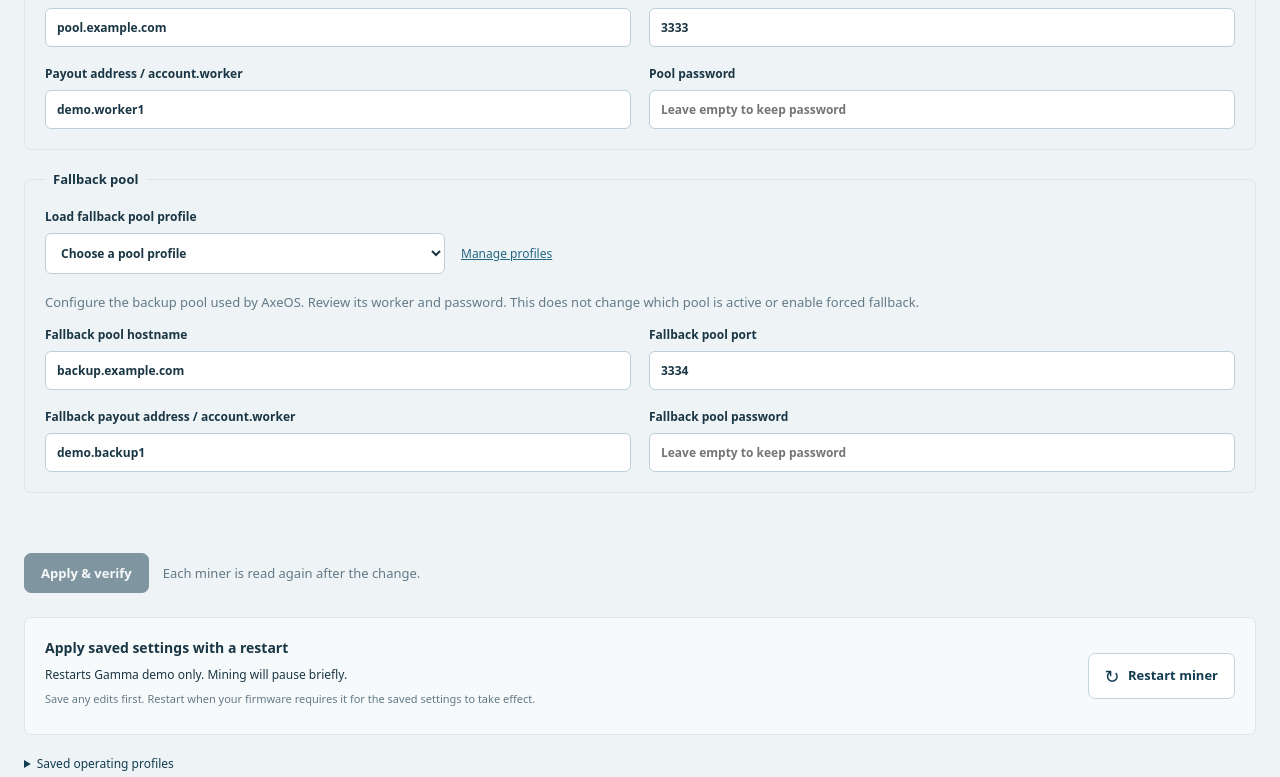
Scenario: fleet interface › loads a saved profile without sending a configuration command
The width and height of the screenshot is (1280, 777).
(page scrolled)
Step 1. Click the heading "Saved operating profiles" → [105, 763], box [37,755,174,772]
(page scrolled)
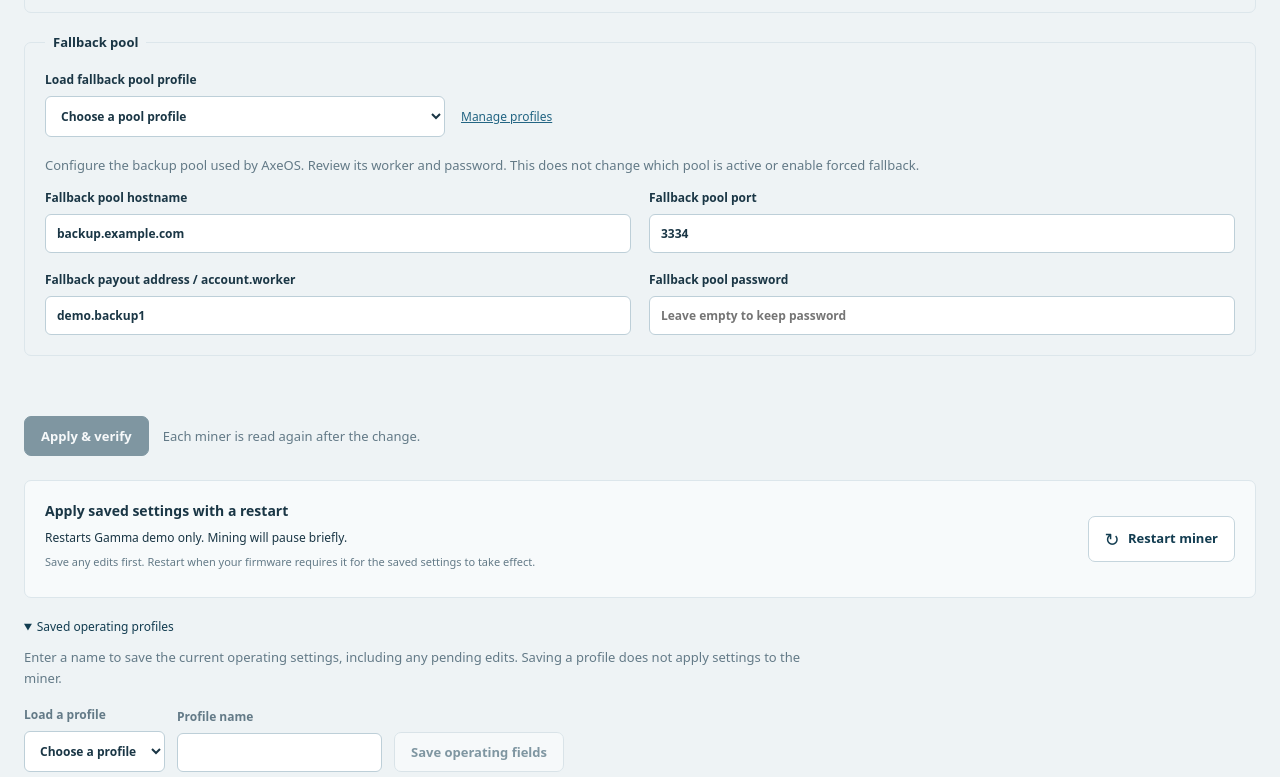
Step 2. Select "Quiet" in the dropdown labelled "Load a profile" → [94, 752], box [24,731,165,772]
(page scrolled)
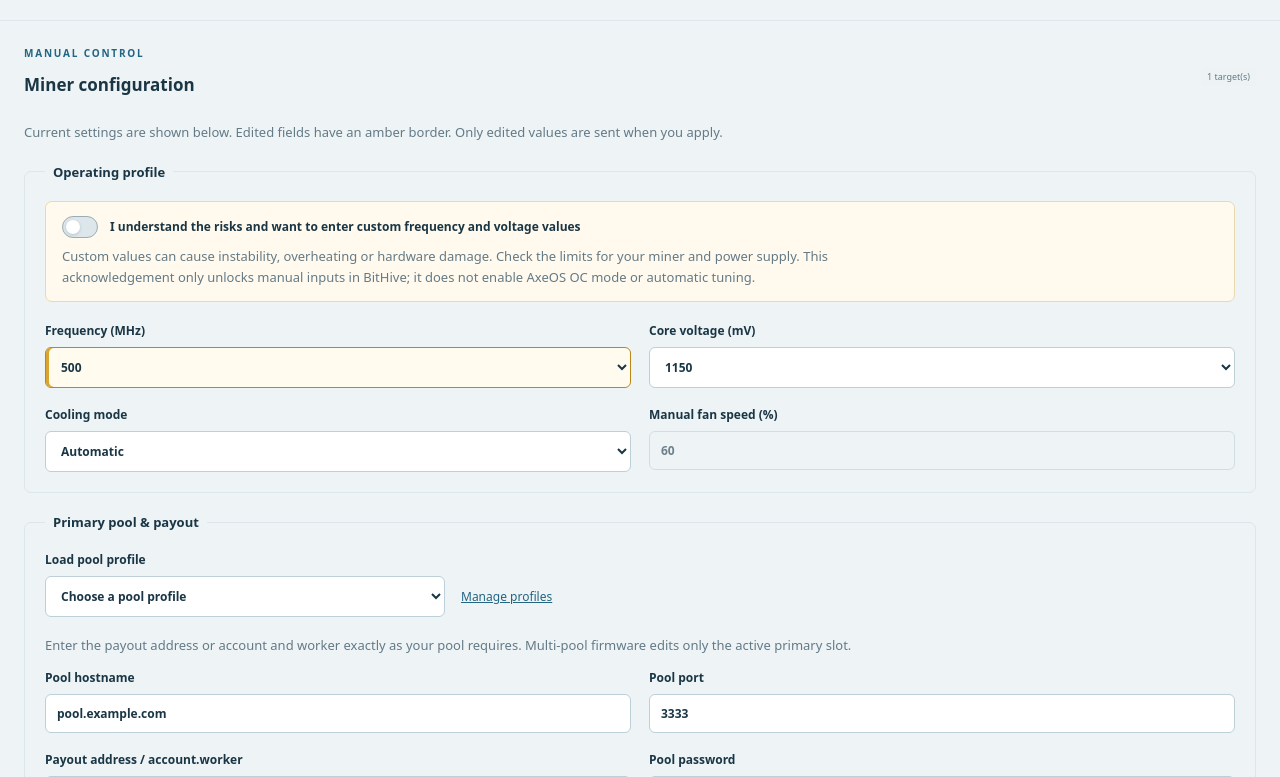
Expected: the dropdown labelled "Frequency (MHz)" shows "500", [45,347,631,388]
